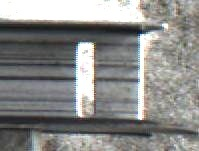40ngpress: (43, 19, 159, 131)
